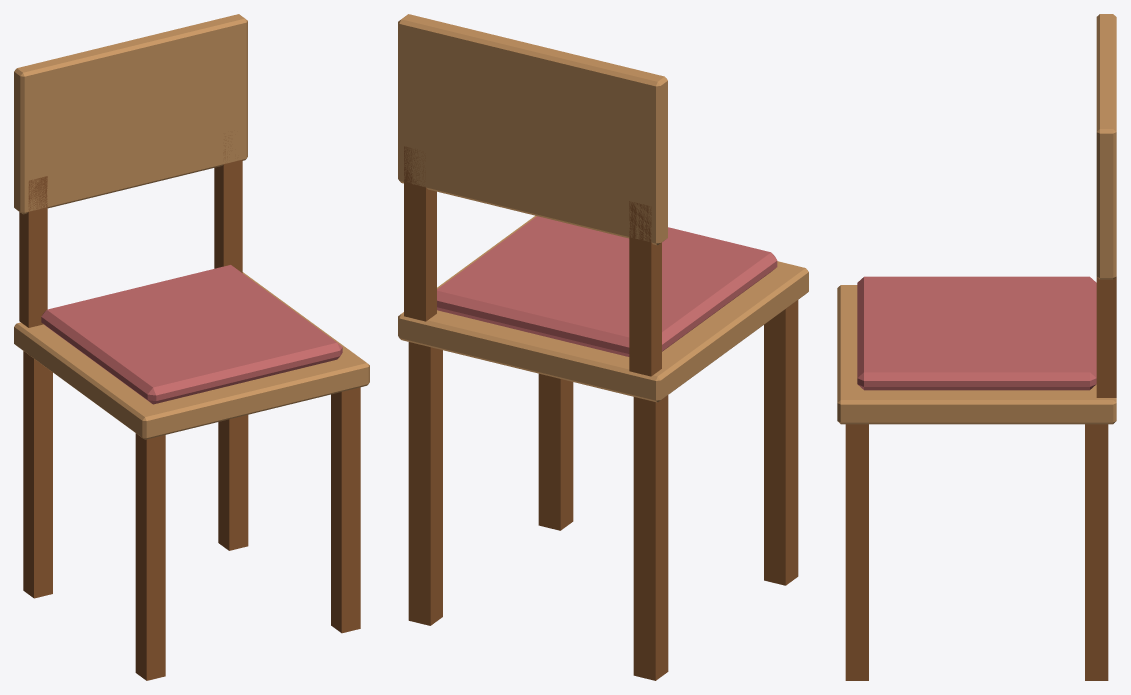
Rendered from chair.fbx.
3 views of the same model, side by side, from view 1: azimuth 30°, elevation 25°; view 2: azimuth 150°, elevation 25°; view 3: azimuth 270°, elevation 25° (orthographic). The views are drawn at different scales.
Parts seen in each view (by area): view 1: chair; view 2: chair; view 3: chair.
Part boxes in pixels (x1=…): chair: x1=14, y1=14, x2=369, y2=680; chair: x1=398, y1=14, x2=808, y2=680; chair: x1=837, y1=14, x2=1116, y2=680.
Bounding box in the file's own units: 1.68 × 3.68 × 1.68.
